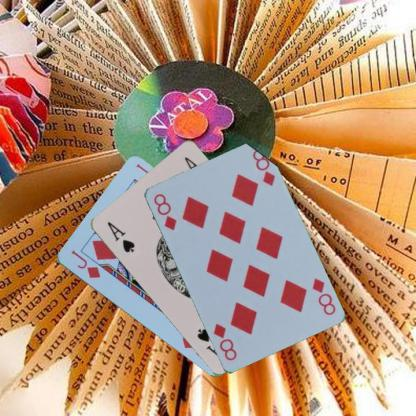8d: (309, 275, 337, 317), (150, 191, 178, 232)
As: (104, 219, 136, 254)
Jd: (68, 248, 102, 280)
